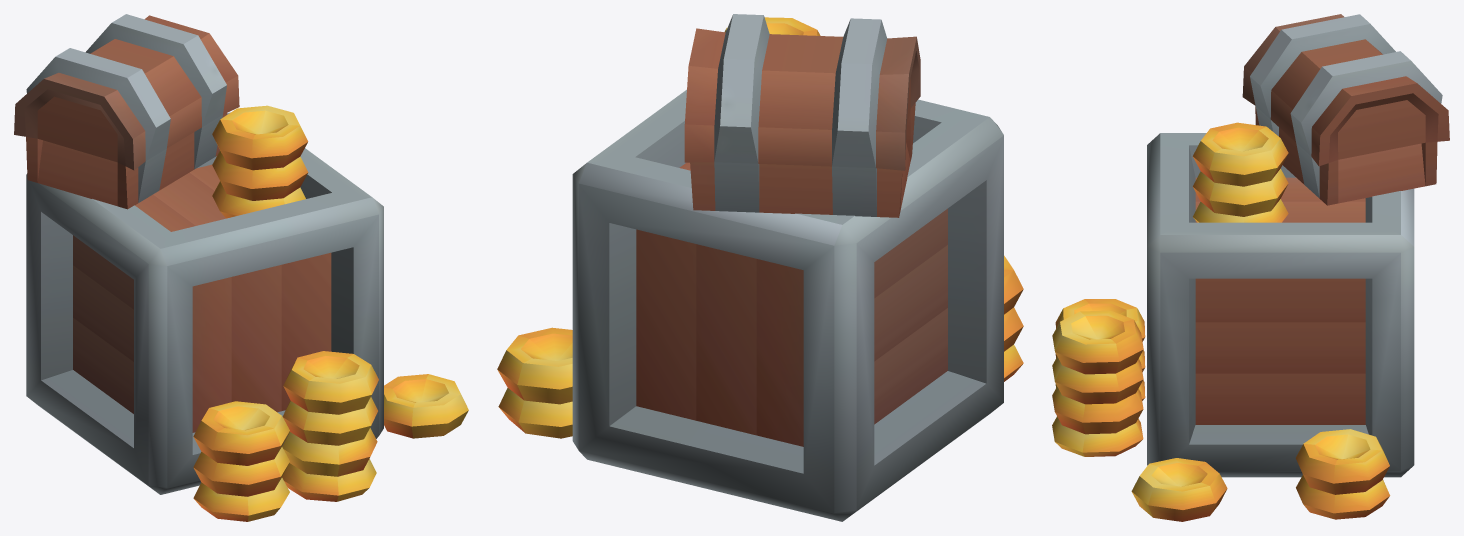
Rendered from kay-caixinha-ornada.gltf.
3 views of the same model, side by side, from view 1: azimuth 30°, elevation 25°; view 2: azimuth 150°, elevation 25°; view 3: azimuth 270°, elevation 25° (orthographic). The views are drawn at different scales.
Visible parts, largest first — view 1: box_small_decorated; view 2: box_small_decorated; view 3: box_small_decorated.
Part boxes in pixels (x1=…): box_small_decorated: x1=14, y1=14, x2=468, y2=521; box_small_decorated: x1=497, y1=14, x2=1023, y2=521; box_small_decorated: x1=1052, y1=14, x2=1449, y2=521.
Size of the model in its own units: 0.9684 by 0.9638 by 0.9668.
Materials: 1 (1 with a texture image).
